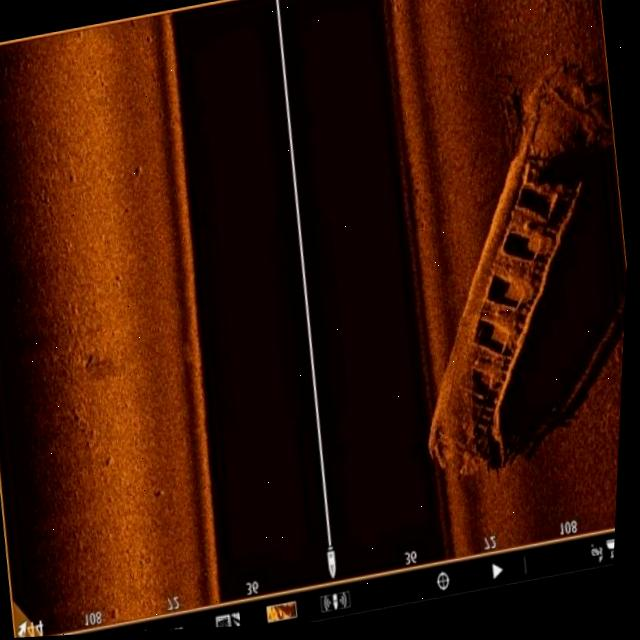shipwreck: (379, 71, 637, 493)
